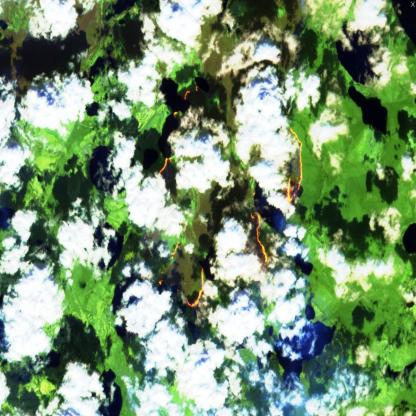fire: (150, 84, 306, 316)
